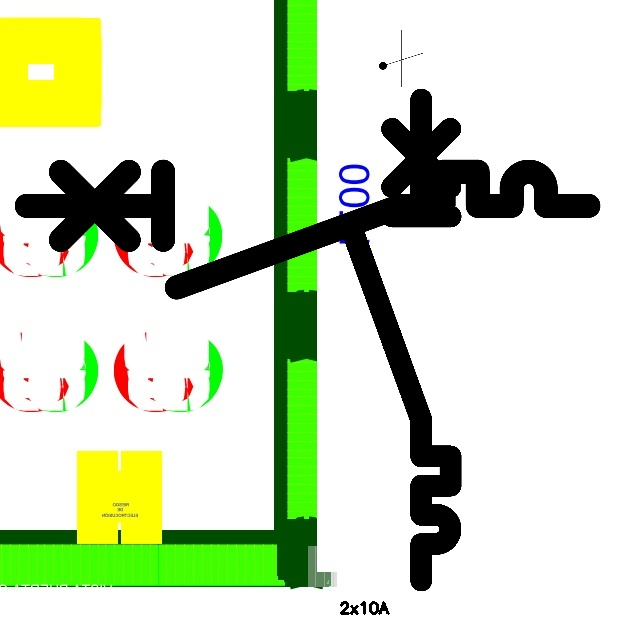interruptor_termomagnetico: (12, 157, 603, 301), (339, 87, 463, 593)
